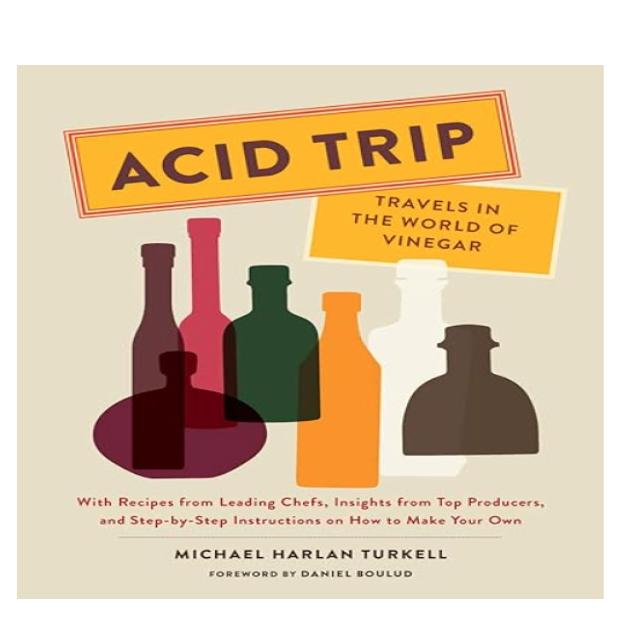titles-or-authors: (74, 100, 549, 263), (165, 542, 463, 566)
